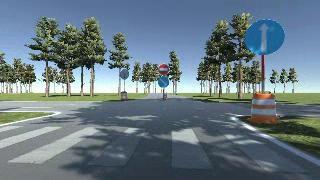go_ahead: (242, 22, 285, 55)
